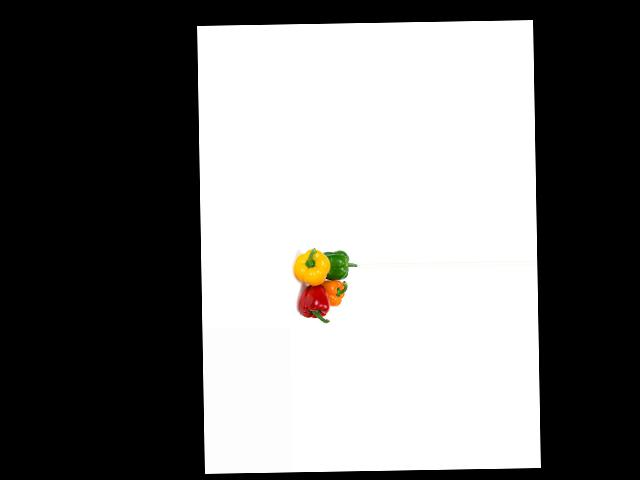bell_pepper: (292, 245, 330, 287)
